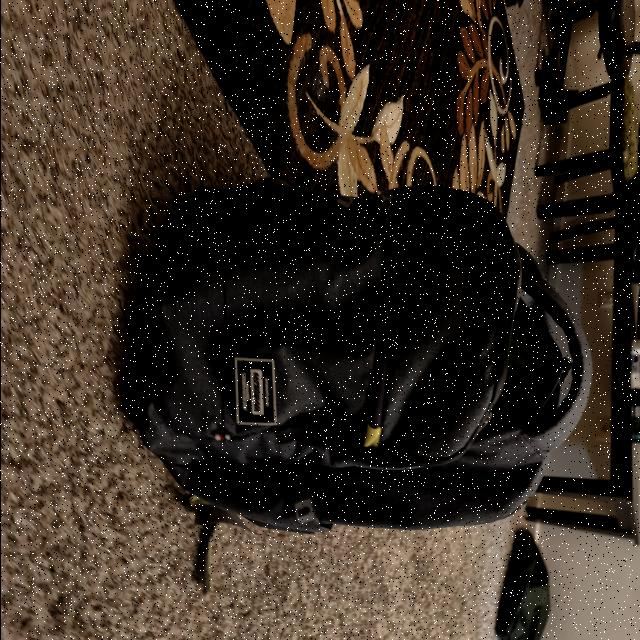bag: (134, 185, 588, 530)
